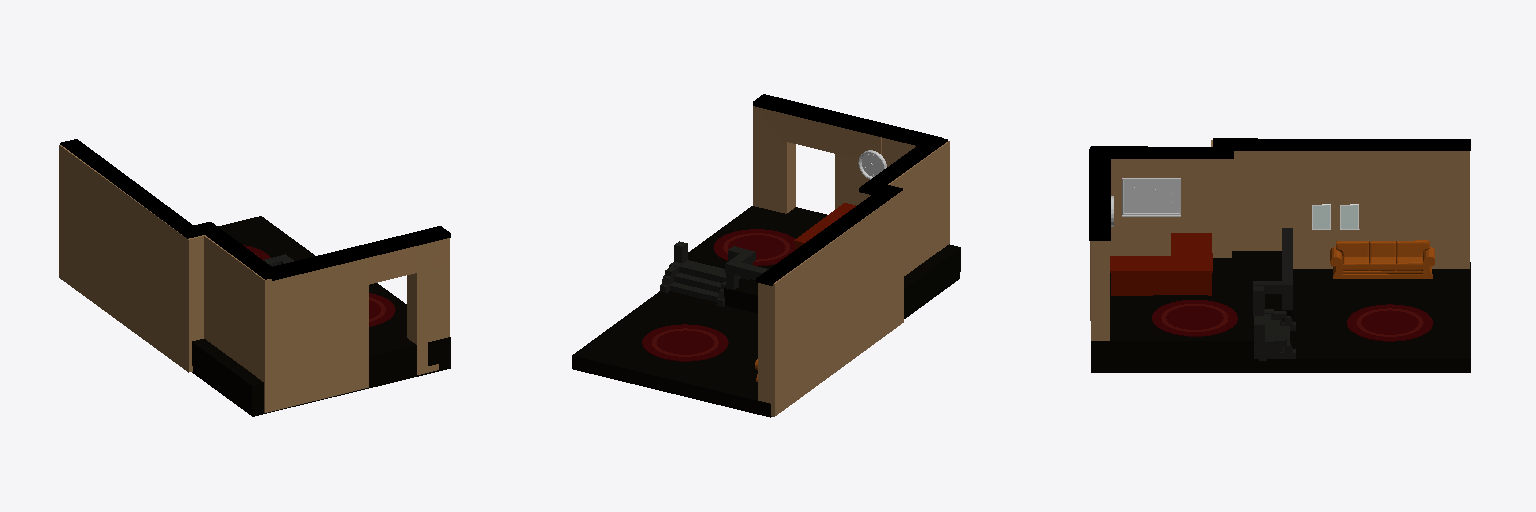
File: comisaria.obj
3 views of the same model, side by side, from view 1: azimuth 30°, elevation 25°; view 2: azimuth 150°, elevation 25°; view 3: azimuth 270°, elevation 25° (orthographic).
Visible parts, largest first — view 1: Cubo.002, Cubo.004, Cubo.011, Cubo.003, Cubo.005, Cubo, Cubo.007, Cubo.008, Cubo.006, Cubo.009, rugRound; view 2: Cubo.002, Cubo, Cubo.011, Cubo.003, Cubo.005, Cubo.006, Cubo.004, Cubo.007, rugRound.001, Cubo.008, Stairs, rugRound (+4 smaller); view 3: Cubo.002, Cubo, Cubo.003, Cubo.011, deskCorner, 79, Cubo.001, Cubo.008, rugRound.001, rugRound, 1344_Message_Board_02, Cubo.007 (+4 smaller).
Boxes of the visible parts, <box> form: Cubo.002: <box>59,145,203,372</box>; Cubo.004: <box>255,258,368,412</box>; Cubo.011: <box>192,283,450,408</box>; Cubo.003: <box>204,235,254,374</box>; Cubo.005: <box>407,238,449,374</box>; Cubo: <box>192,216,450,416</box>; Cubo.007: <box>268,226,450,280</box>; Cubo.008: <box>60,139,203,238</box>; Cubo.006: <box>369,238,448,284</box>; Cubo.009: <box>194,222,271,279</box>; rugRound: <box>369,293,395,326</box>; Cubo.002: <box>758,189,903,416</box>; Cubo: <box>572,273,959,417</box>; Cubo.011: <box>688,206,960,312</box>; Cubo.003: <box>861,142,946,275</box>; Cubo.005: <box>753,106,795,213</box>; Cubo.006: <box>756,107,881,158</box>; Cubo.004: <box>835,138,949,250</box>; Cubo.007: <box>753,94,941,145</box>; rugRound.001: <box>642,324,728,361</box>; Cubo.008: <box>756,185,902,285</box>; Stairs: <box>660,260,739,306</box>; rugRound: <box>713,229,794,265</box>; Cubo.002: <box>1211,140,1469,268</box>; Cubo: <box>1091,262,1470,372</box>; Cubo.003: <box>1110,159,1231,257</box>; Cubo.011: <box>1091,251,1253,364</box>; deskCorner: <box>1110,233,1212,295</box>; 79: <box>1330,240,1434,278</box>; Cubo.001: <box>1110,251,1291,321</box>; Cubo.008: <box>1213,138,1470,150</box>; rugRound.001: <box>1347,304,1432,341</box>; rugRound: <box>1152,300,1237,336</box>; 1344_Message_Board_02: <box>1122,178,1180,216</box>; Cubo.007: <box>1089,149,1110,240</box>.
Bounding box in the file's own units: 8.53 × 5.45 × 13.85.